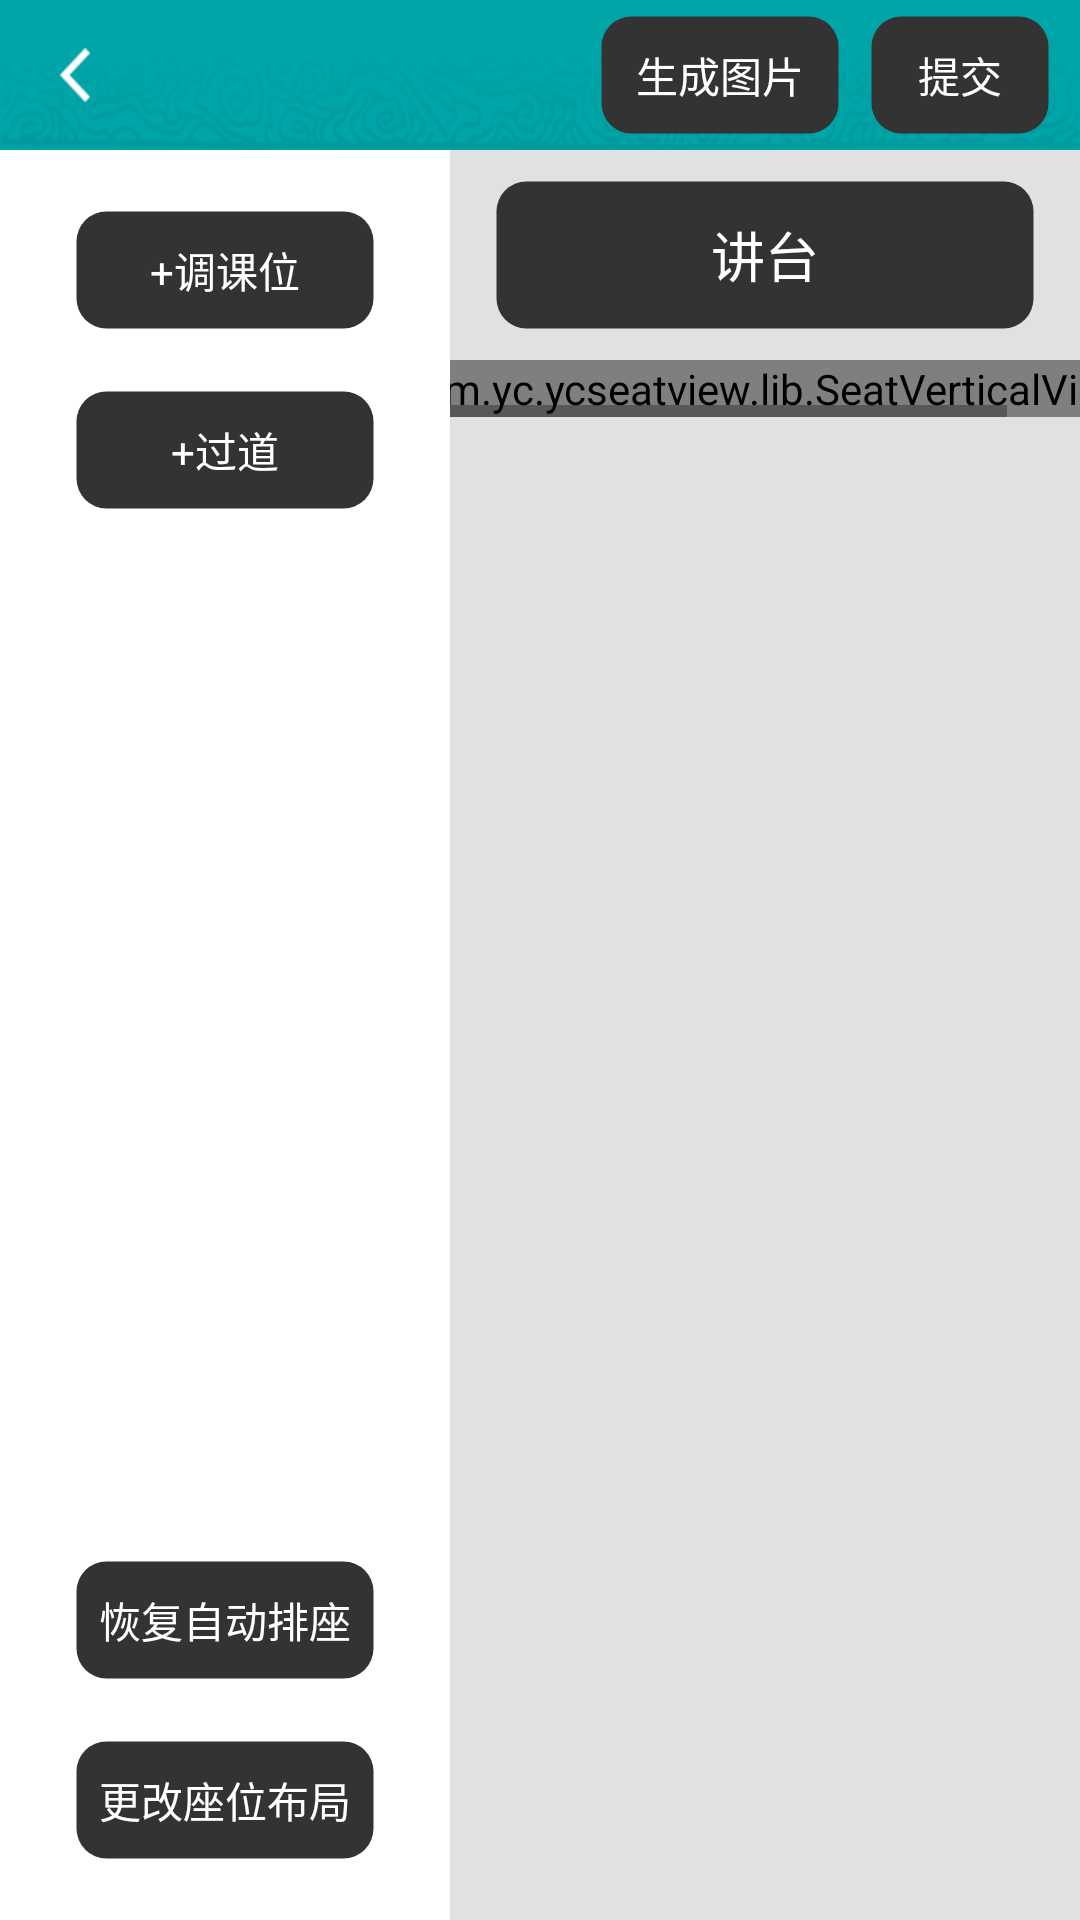

Point at icon controls on the screen. Image size 1080px×1920px, points as point (x, y).
back arrow: point (75, 75)
